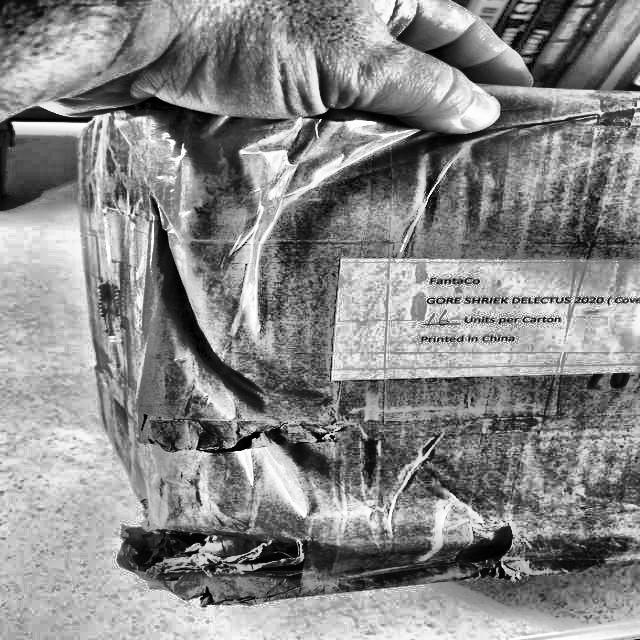box: (76, 83, 639, 615)
hole: (136, 512, 308, 596)
